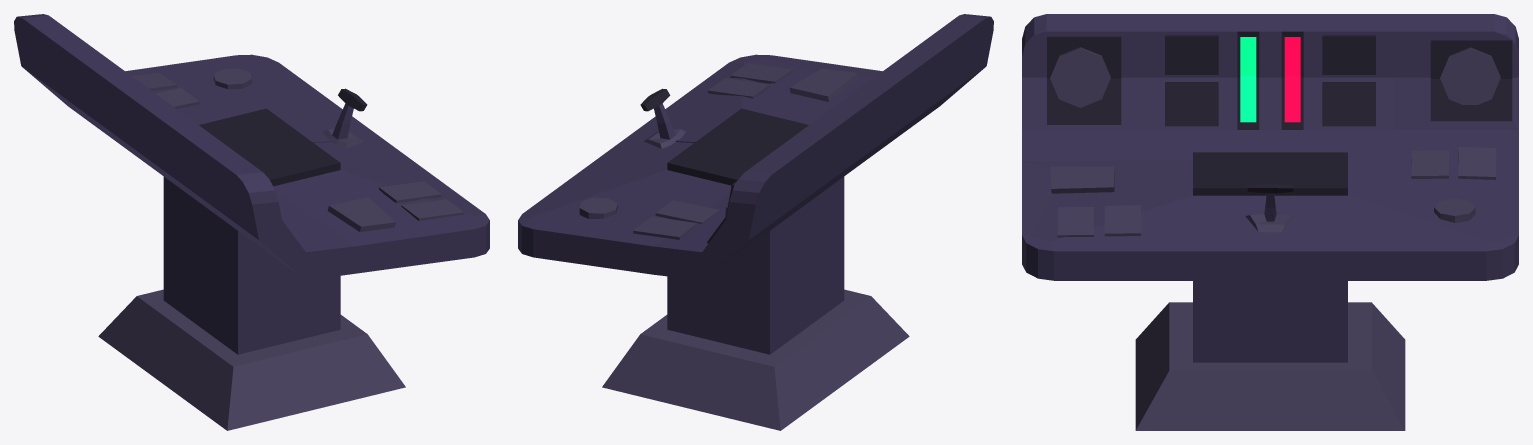
File: Control_Panel.fbx
3 renders of one model, left to right at view 1: azimuth 30°, elevation 25°; view 2: azimuth 150°, elevation 25°; view 3: azimuth 270°, elevation 25°, orthographic. The views are drawn at different scales.
Parts seen in each view (by area): view 1: Control_Panel; view 2: Control_Panel; view 3: Control_Panel.
Part boxes in pixels (x1,y1,x2,y2): Control_Panel: (14,14,489,430); Control_Panel: (518,14,993,430); Control_Panel: (1022,14,1518,430).
Bounding box in the file's own units: 1.13 × 1.26 × 1.84.
